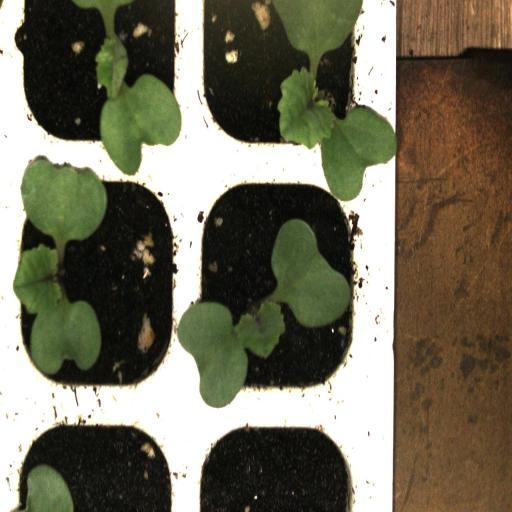seedling: (0, 163, 184, 407), (185, 166, 363, 401), (194, 0, 376, 163), (12, 0, 194, 158)
